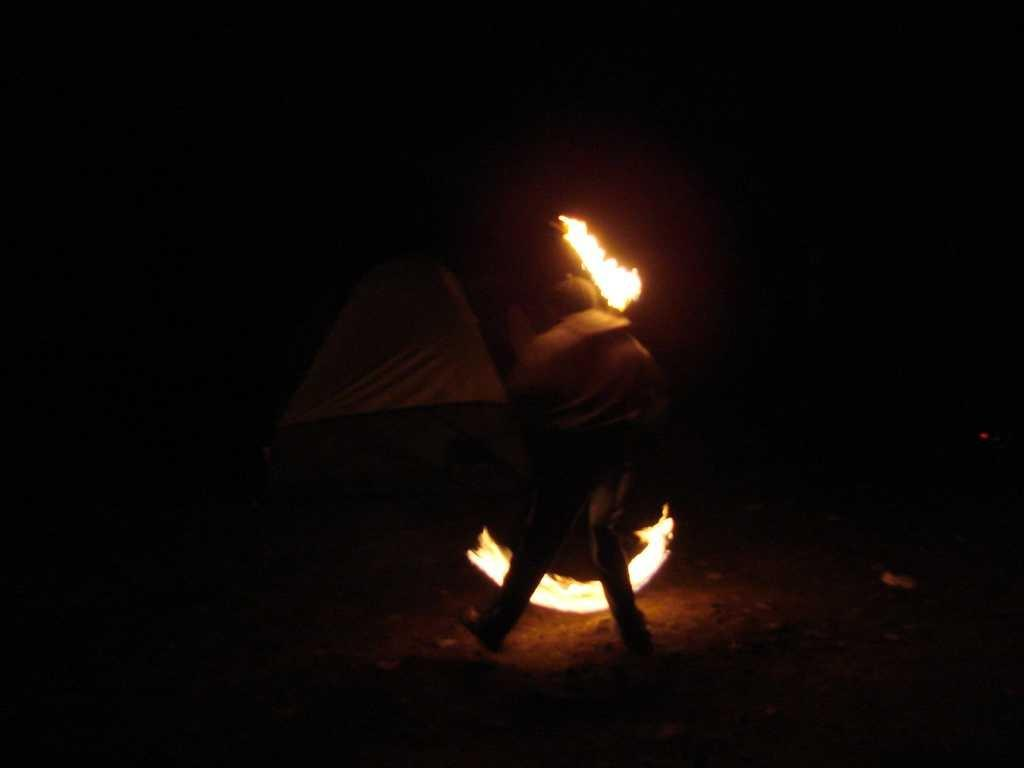fire: (598, 258, 640, 306), (544, 584, 602, 610), (474, 540, 504, 582)
